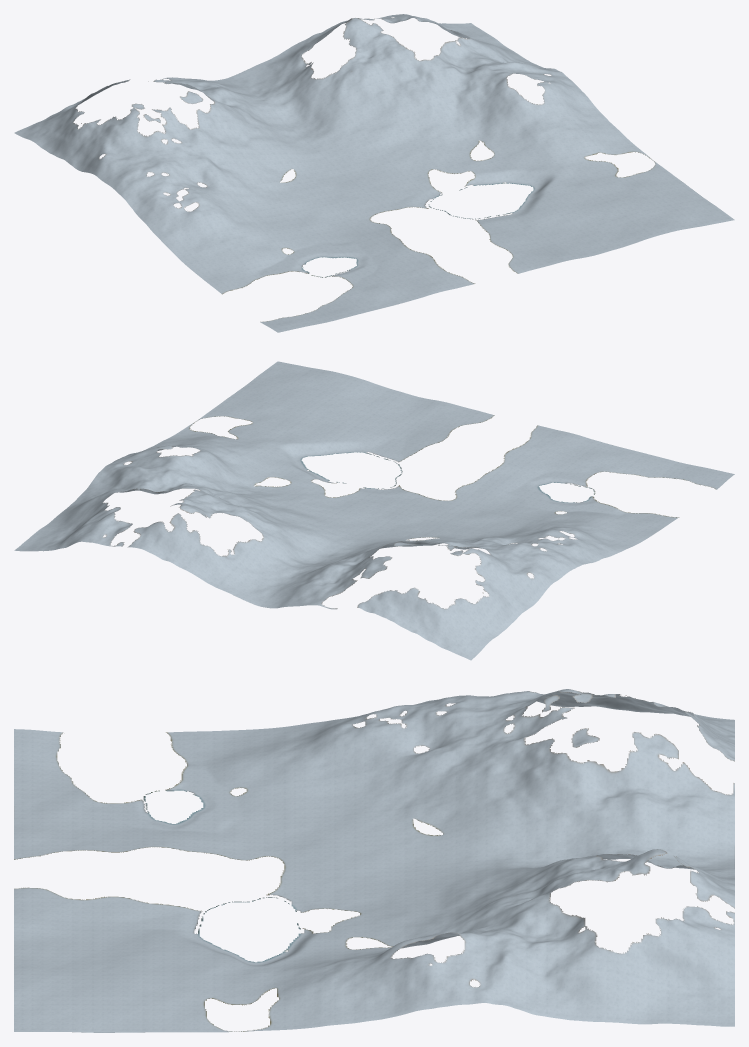
File: snow_visual.dae
3 views of the same model, one above another, from view 1: azimuth 30°, elevation 25°; view 2: azimuth 150°, elevation 25°; view 3: azimuth 270°, elevation 25° (orthographic). The views are drawn at different scales.
Parts seen in each view (by area): view 1: Terrain; view 2: Terrain; view 3: Terrain.
Part boxes in pixels (box(x1,y1,x2,y2)): Terrain: box(14, 14, 734, 332); Terrain: box(14, 361, 734, 660); Terrain: box(14, 689, 734, 1032).
Size of the model in its own units: 1000 by 1000 by 141.
Materials: 1 (1 with a texture image).
